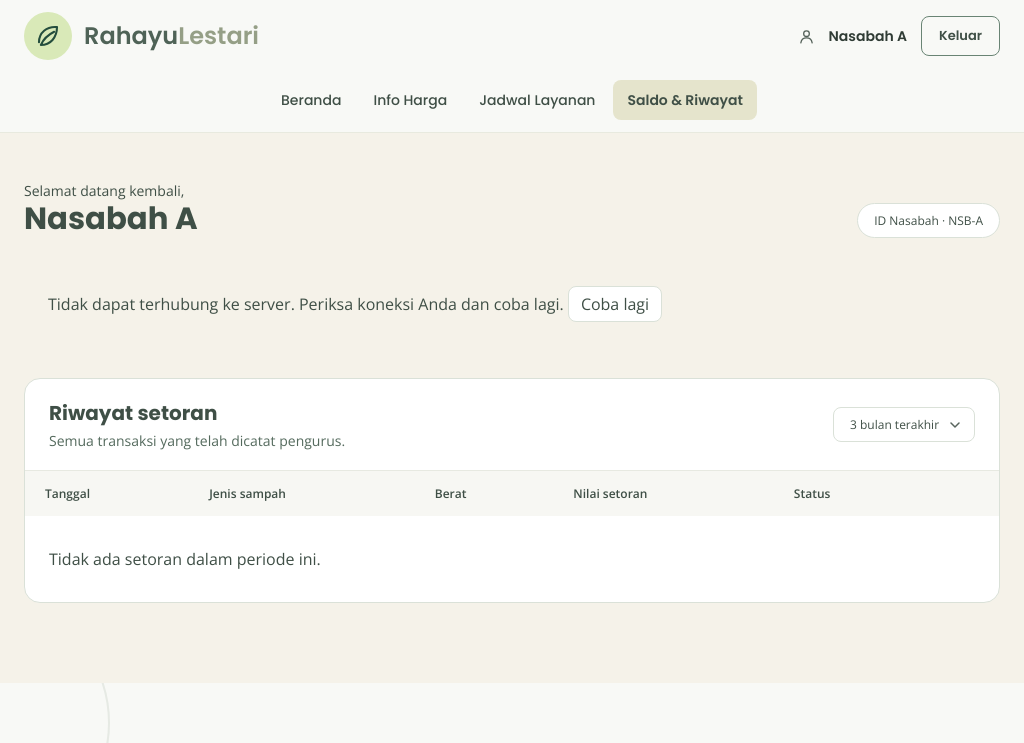
Test: saldo gagal independen, coba lagi, dan keadaan belum pernah menyetor
Expected: the message "Tidak dapat terhubung ke server. Periksa koneksi Anda dan coba lagi. Coba lagi" is shown, [48,286,662,322]
Expected: the text "Rp 0" is not shown
Click the button "Coba lagi".
click(615, 304)  # box [568,286,662,322]
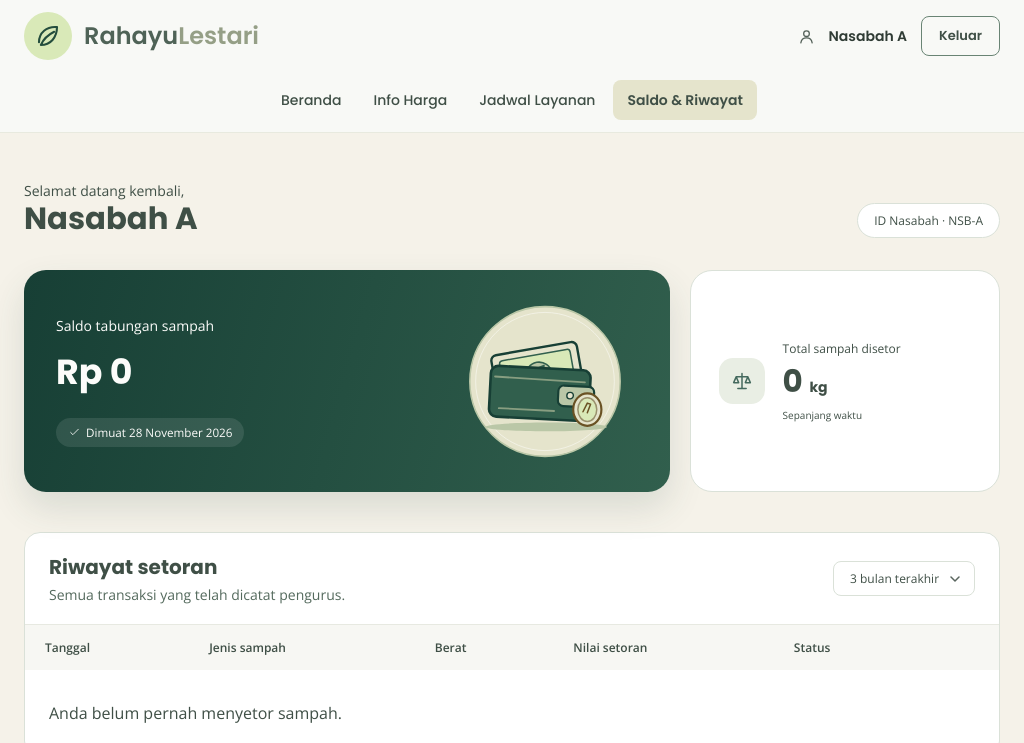
Now the text "Anda belum pernah menyetor sampah." is shown, box [49,702,342,724]
Now the heading "Rp 0" is shown, box [56,347,132,396]
